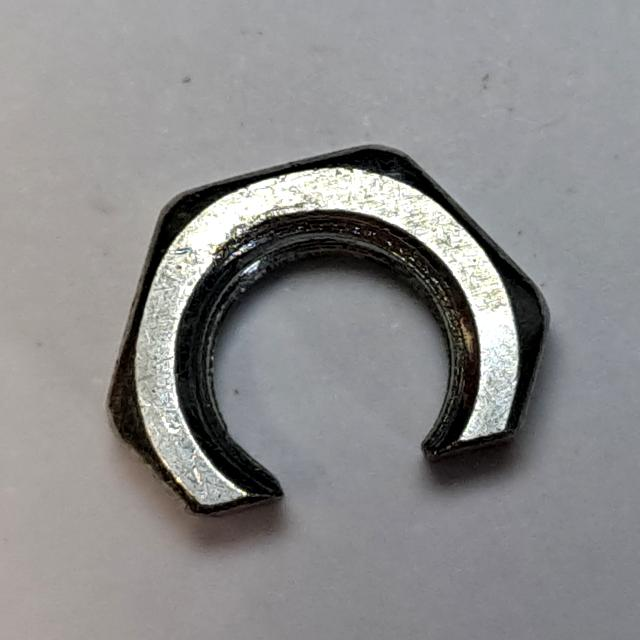Fracture: (98, 130, 561, 539)
